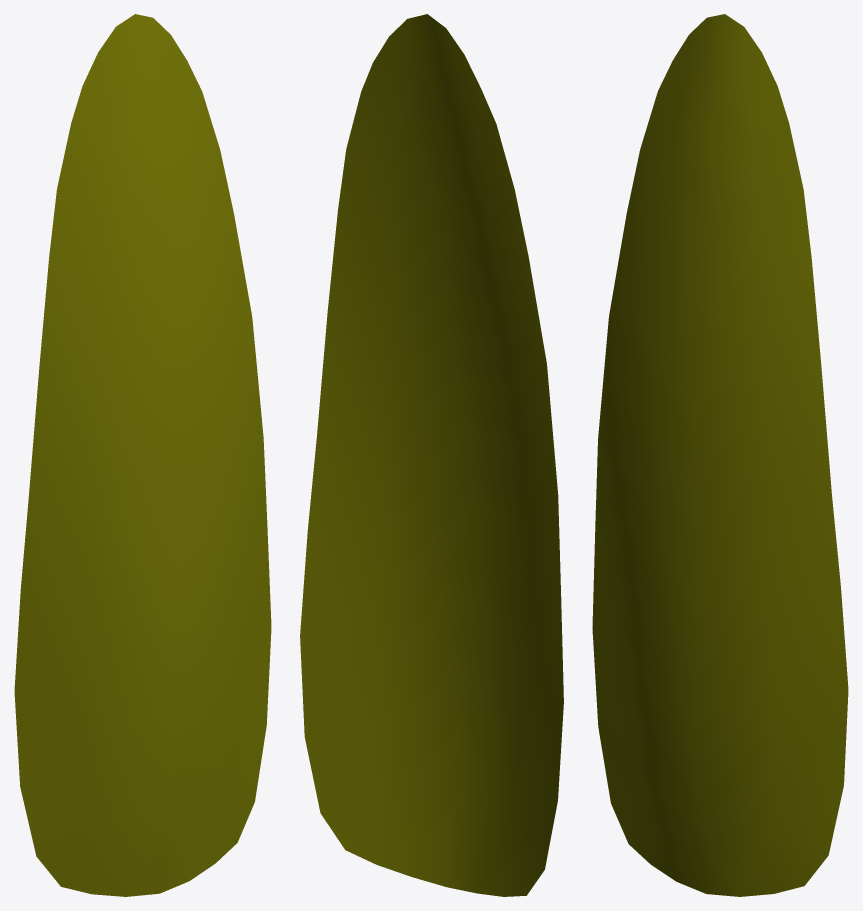
File: MD_nail_point_HandL.Ring.fbx
3 views of the same model, side by side, from view 1: azimuth 30°, elevation 25°; view 2: azimuth 150°, elevation 25°; view 3: azimuth 330°, elevation 25° (orthographic). The views are drawn at different scales.
Visible parts, largest first — view 1: MD_nail_point_HandL.Ring; view 2: MD_nail_point_HandL.Ring; view 3: MD_nail_point_HandL.Ring.
Boxes of the visible parts, x1=… form: MD_nail_point_HandL.Ring: x1=14, y1=14, x2=271, y2=896; MD_nail_point_HandL.Ring: x1=300, y1=14, x2=563, y2=896; MD_nail_point_HandL.Ring: x1=592, y1=14, x2=848, y2=896.
Size of the model in its own units: 0.7183 by 2.31 by 0.1683.
